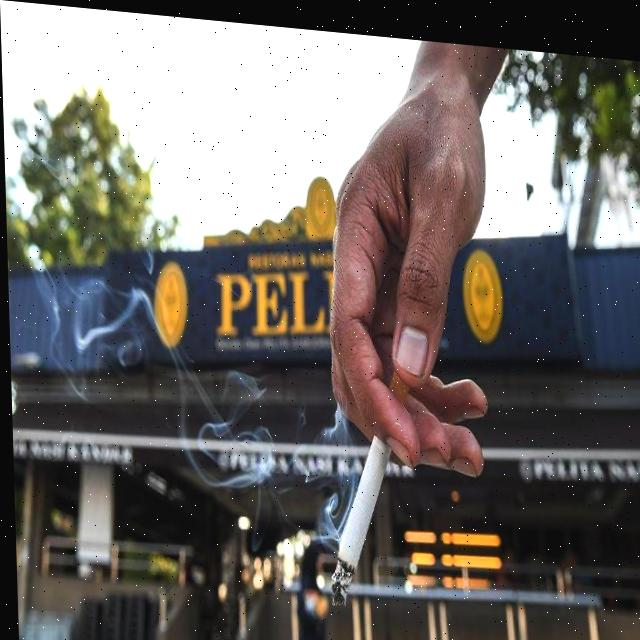cigarette: (321, 361, 414, 607)
